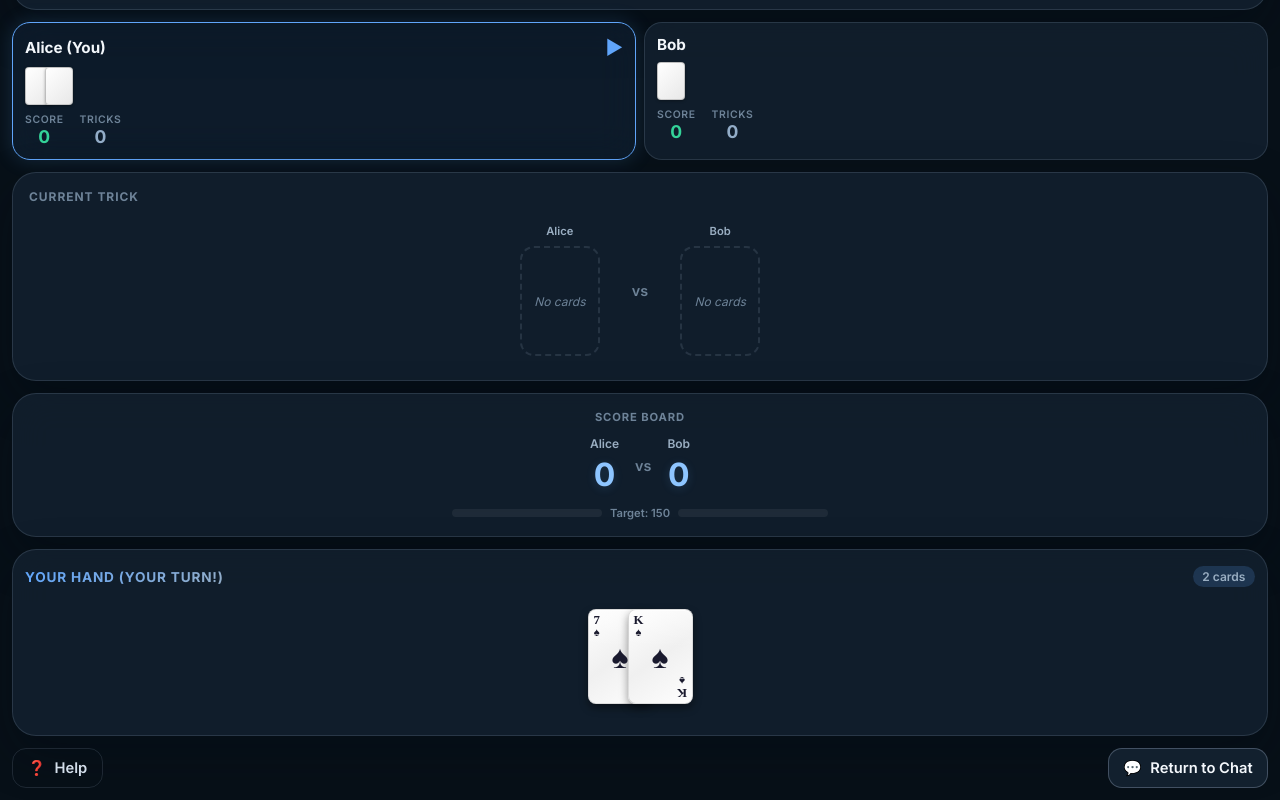
ShashnBoard interactions › Cancel button clears card selection
(page scrolled)
Click first card, then Cancel
Click the element with class "shashn-card" showing "7 ♠ ♠ 7 ♠": (620, 657) [588,609,652,704]
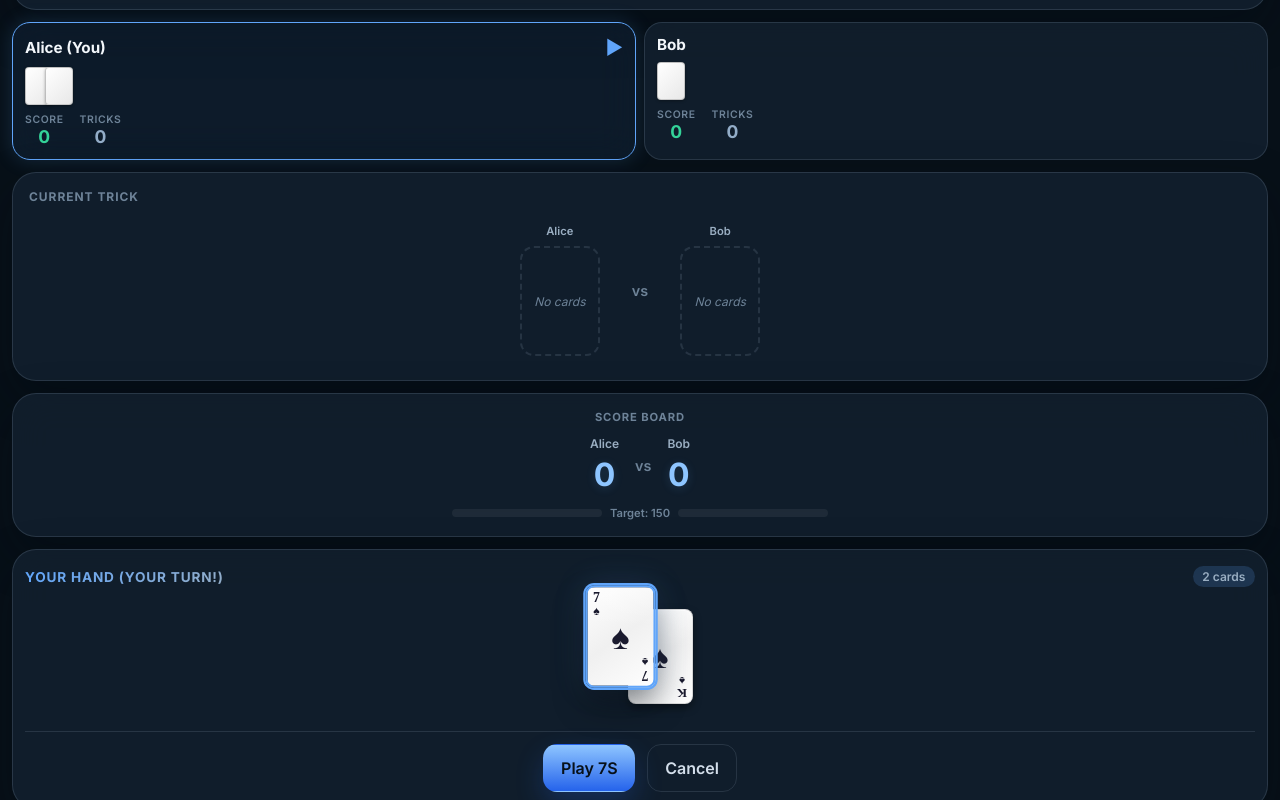
Expected: the button "Play 7S" is shown, [543,744,635,792]
Click the button "Cancel": (692, 768) [647,744,737,792]
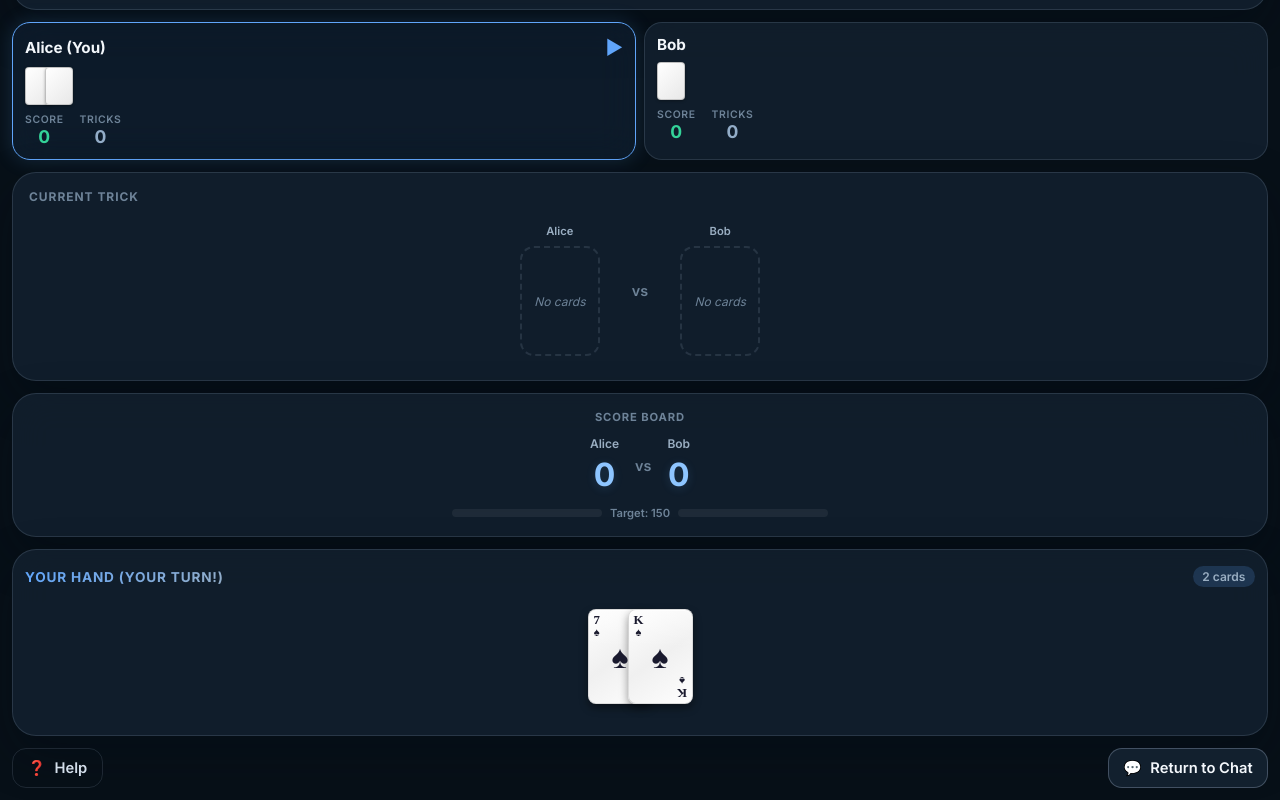
Expected: the button "Play 7S" is gone
